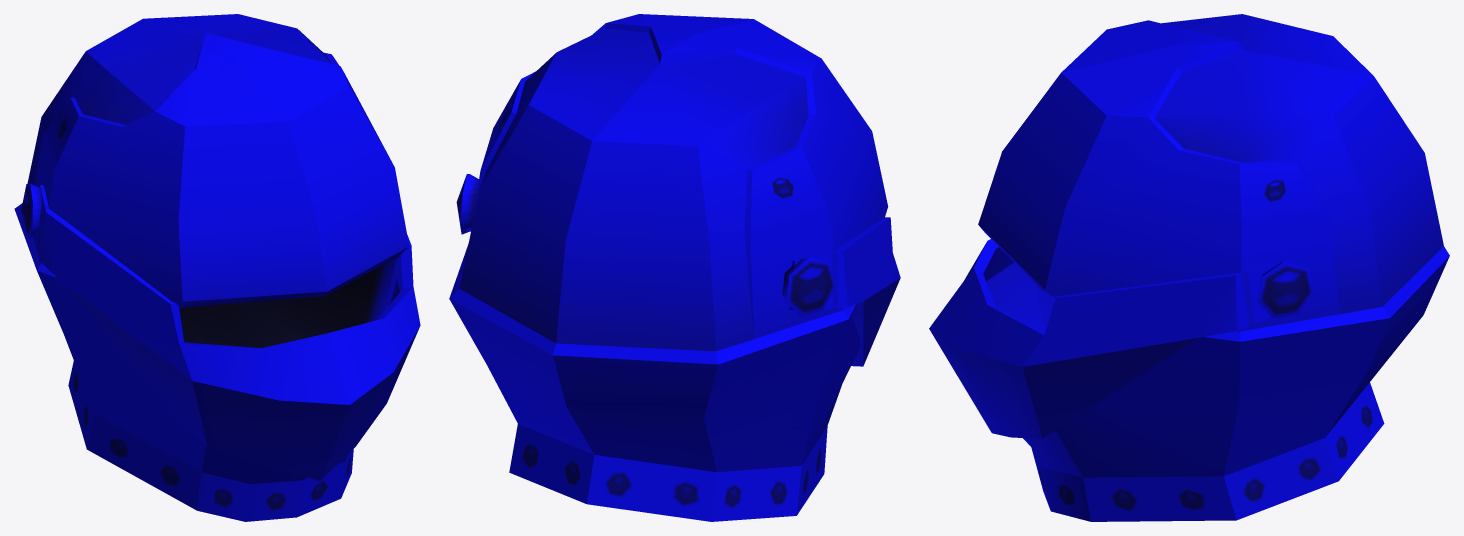
3 views of the same model, side by side, from view 1: azimuth 30°, elevation 25°; view 2: azimuth 150°, elevation 25°; view 3: azimuth 270°, elevation 25° (orthographic). The views are drawn at different scales.
Visible parts, largest first — view 1: ArmetHelmet_M; view 2: ArmetHelmet_M; view 3: ArmetHelmet_M.
Boxes of the visible parts, bbox=[...] form: ArmetHelmet_M: bbox=[14, 14, 420, 521]; ArmetHelmet_M: bbox=[449, 14, 900, 521]; ArmetHelmet_M: bbox=[929, 14, 1449, 521].
Bounding box in the file's own units: 0.253 × 0.2997 × 0.3149.
1 material, 1 textured.
